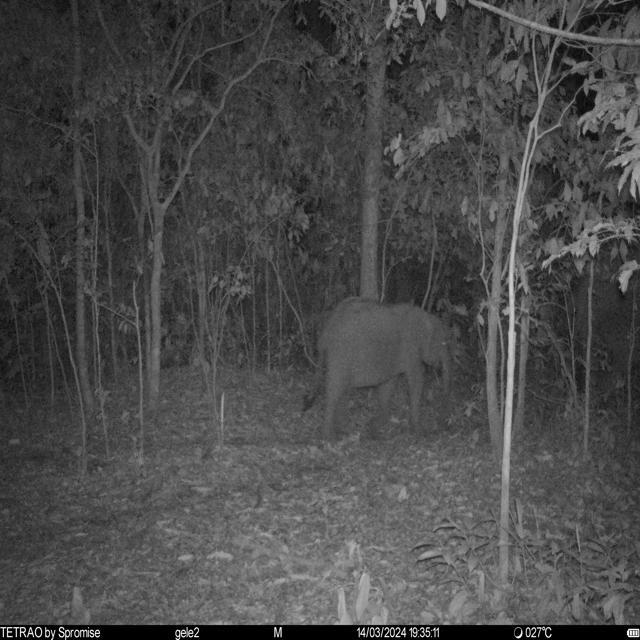calf: (300, 296, 456, 446)
